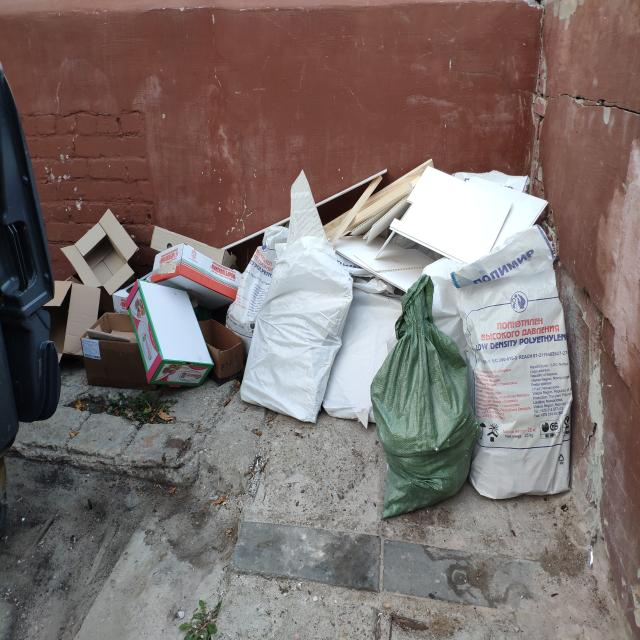entulho: (458, 229, 576, 499), (238, 239, 352, 411), (387, 163, 549, 267), (322, 170, 446, 295), (538, 0, 637, 118), (323, 287, 405, 419), (59, 206, 144, 305), (228, 220, 294, 343), (136, 282, 212, 383), (147, 235, 247, 309), (82, 311, 154, 387), (152, 219, 240, 273), (190, 316, 251, 379), (287, 170, 325, 247)
lixo domiciliar: (375, 277, 470, 514)
